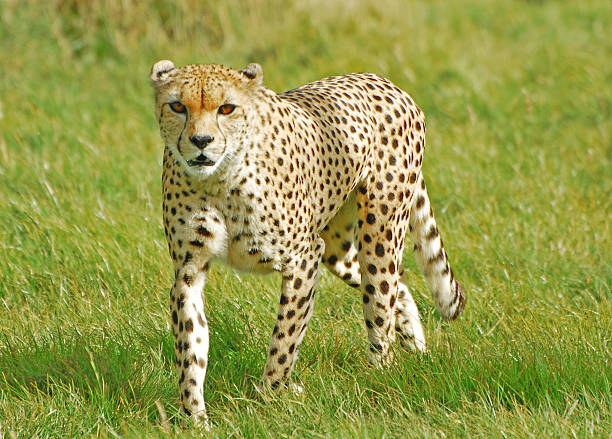cheetah: (137, 52, 265, 187)
